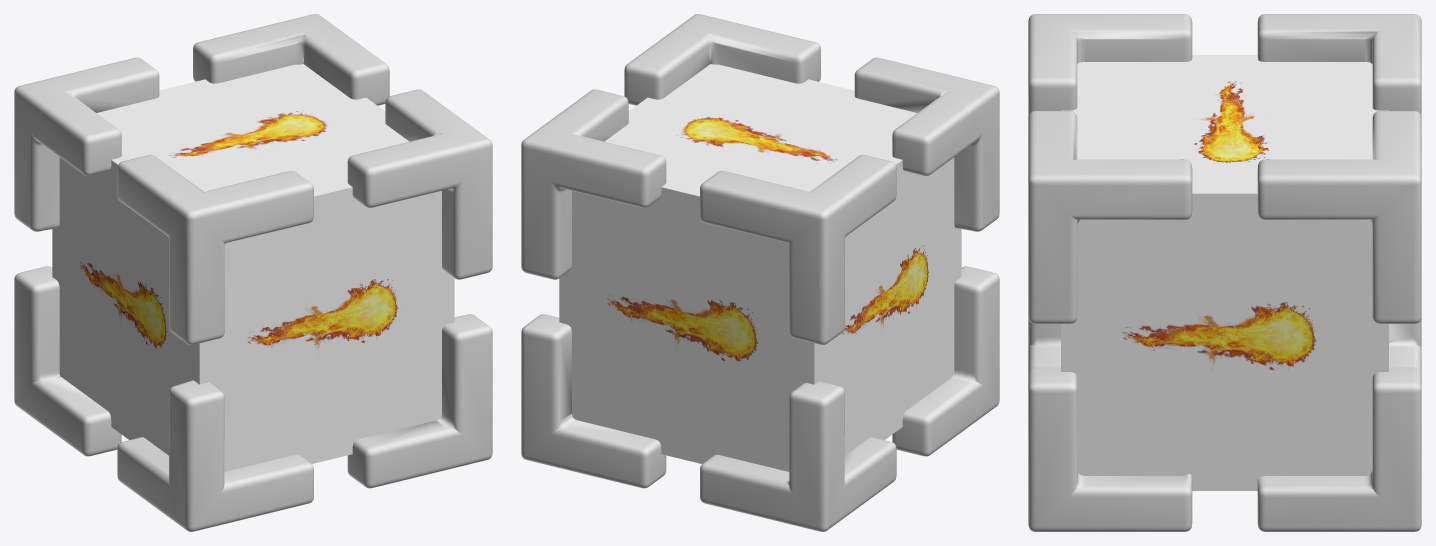
File: FlamethrowerBox.FBX
3 views of the same model, side by side, from view 1: azimuth 30°, elevation 25°; view 2: azimuth 150°, elevation 25°; view 3: azimuth 270°, elevation 25° (orthographic). The views are drawn at different scales.
Visible parts, largest first — view 1: MainBox, Corner005, Corner008, Corner001, Corner011, Corner007, Corner006, Corner010; view 2: MainBox, Corner011, Corner006, Corner010, Corner005, Corner002, Corner008, Corner001; view 3: MainBox, Corner010, Corner001, Corner007, Corner002, Corner011, Corner005, Corner006, Corner008.
Boxes of the visible parts, box(x1,y1,x2,y2) form: MainBox: box(52, 64, 454, 471); Corner005: box(117, 154, 313, 344); Corner008: box(117, 380, 313, 531); Corner001: box(347, 89, 492, 279); Corner011: box(14, 57, 159, 231); Corner007: box(347, 314, 492, 488); Corner006: box(14, 266, 121, 456); Corner010: box(193, 14, 389, 105); MainBox: box(559, 64, 961, 471); Corner011: box(700, 154, 896, 344); Corner006: box(700, 381, 896, 531); Corner010: box(521, 89, 666, 279); Corner005: box(854, 57, 999, 231); Corner002: box(521, 314, 666, 488); Corner008: box(892, 266, 999, 456); Corner001: box(624, 14, 820, 105); MainBox: box(1061, 55, 1388, 490); Corner010: box(1257, 111, 1421, 323); Corner001: box(1028, 111, 1192, 323); Corner007: box(1028, 367, 1192, 531); Corner002: box(1257, 367, 1421, 531); Corner011: box(1257, 14, 1421, 117); Corner005: box(1028, 14, 1192, 117); Corner006: box(1389, 317, 1421, 373); Corner008: box(1028, 317, 1060, 373).
Bounding box in the file's own units: 120 × 120 × 120.
1 material, 1 textured.
